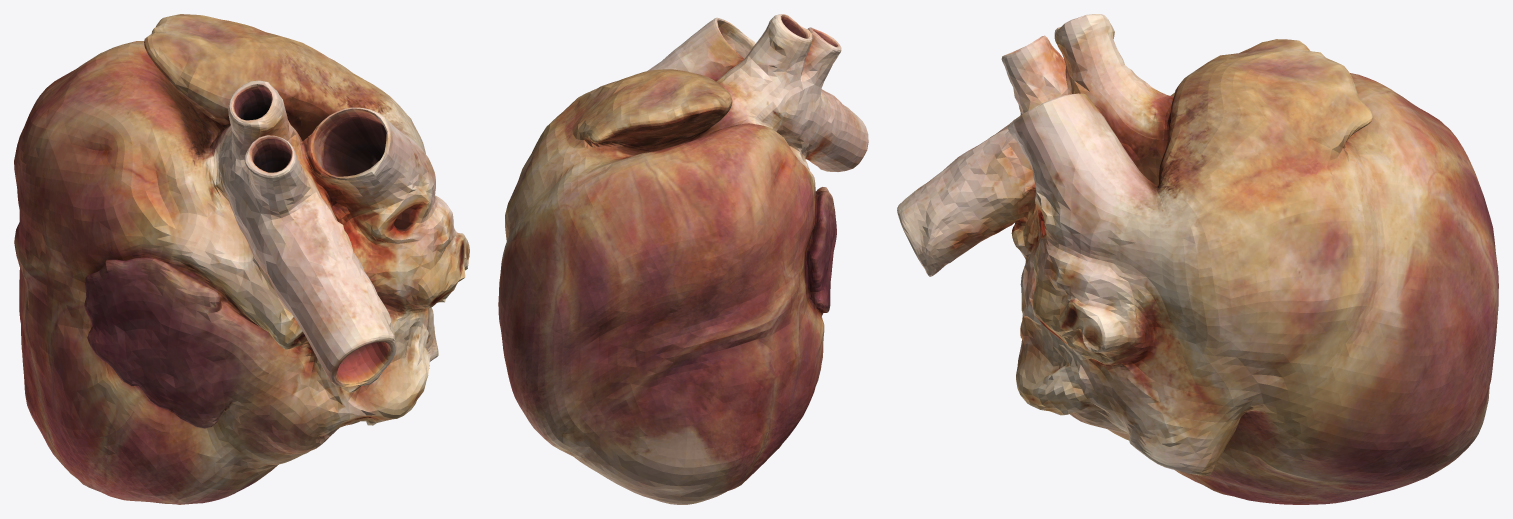
File: heart_LO.glb
The picture shows the model from 3 angles, left to right: view 1: azimuth 30°, elevation 25°; view 2: azimuth 150°, elevation 25°; view 3: azimuth 270°, elevation 25°; orthographic projection. The views are drawn at different scales.
Parts seen in each view (by area): view 1: heart_LO; view 2: heart_LO; view 3: heart_LO.
Part boxes in pixels (x1,y1,x2,y2): heart_LO: (14, 14, 469, 504); heart_LO: (498, 14, 868, 504); heart_LO: (897, 14, 1498, 504).
Size of the model in its own units: 0.00239 by 0.00321 by 0.00365.
1 material, 1 textured.
